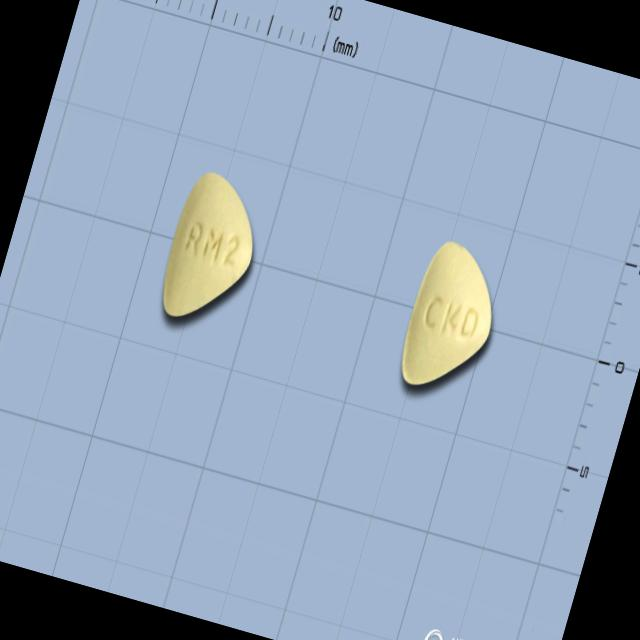Leflunomide - 20mg: (152, 167, 272, 334), (392, 235, 512, 402)
